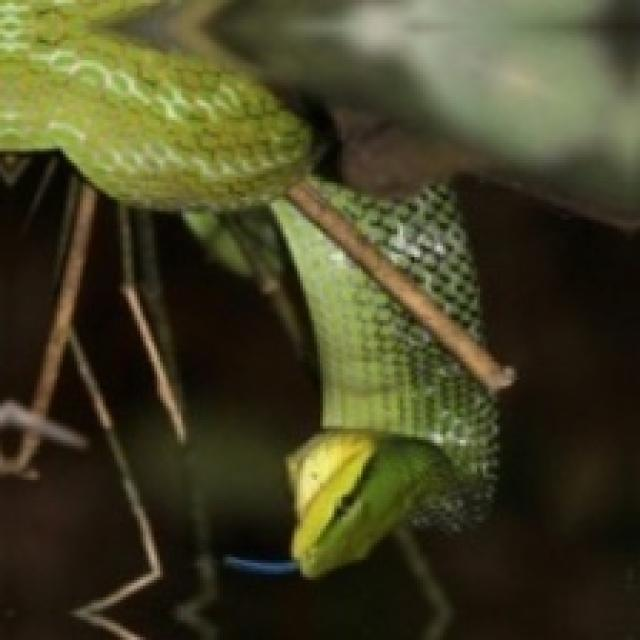red-tailed green ratsnake: (0, 0, 511, 574)
